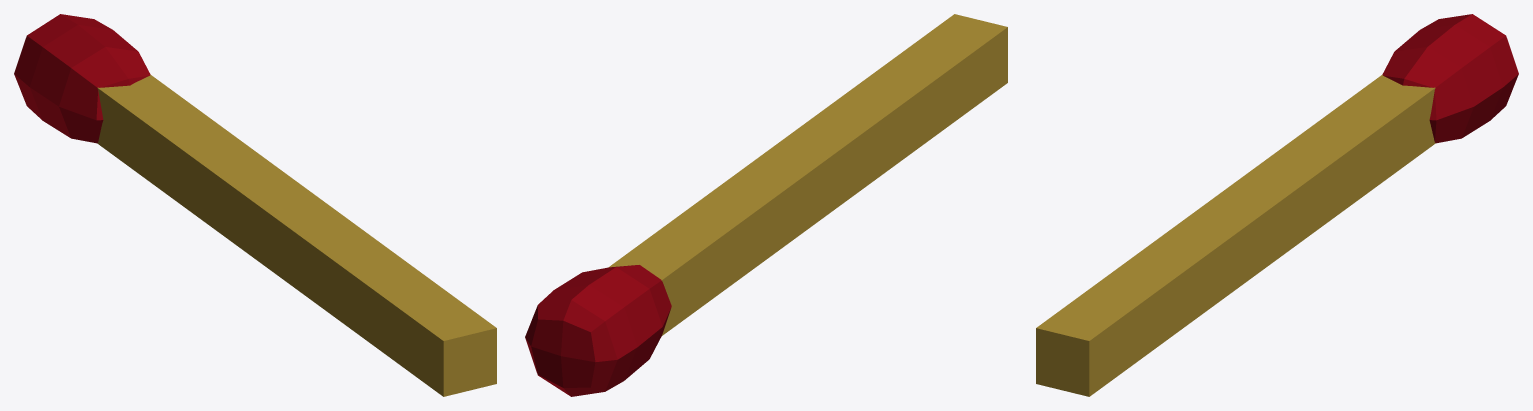
Rendered from match_stick.glb.
3 renders of one model, left to right at view 1: azimuth 30°, elevation 25°; view 2: azimuth 150°, elevation 25°; view 3: azimuth 330°, elevation 25°, orthographic.
Visible parts, largest first — view 1: match_stick, match_stick.002; view 2: match_stick, match_stick.002; view 3: match_stick, match_stick.002.
Boxes of the visible parts, box(x1,y1,x2,y2) form: match_stick: box(97, 74, 496, 396); match_stick.002: box(14, 14, 150, 143); match_stick: box(608, 14, 1007, 335); match_stick.002: box(525, 265, 671, 396); match_stick: box(1036, 74, 1435, 396); match_stick.002: box(1382, 14, 1518, 143).
Size of the model in its own units: 0.00725 by 0.00725 by 0.0546.
